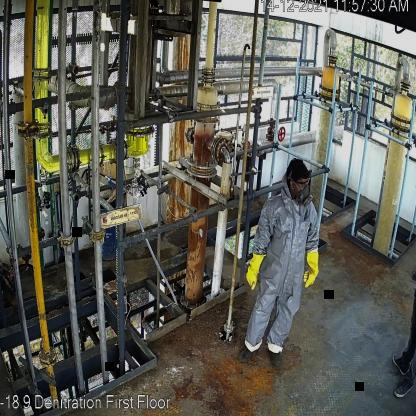goggles: (292, 178, 310, 188)
mask: (295, 187, 312, 210)
